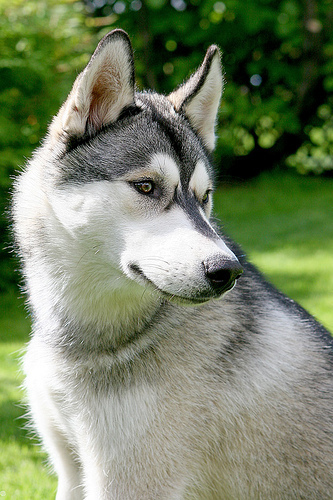dog: (3, 27, 331, 498)
